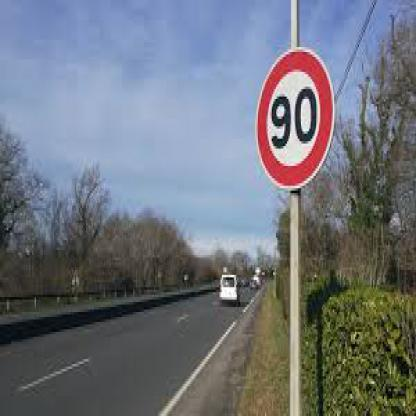Speed Limit 90: (254, 47, 333, 190)
